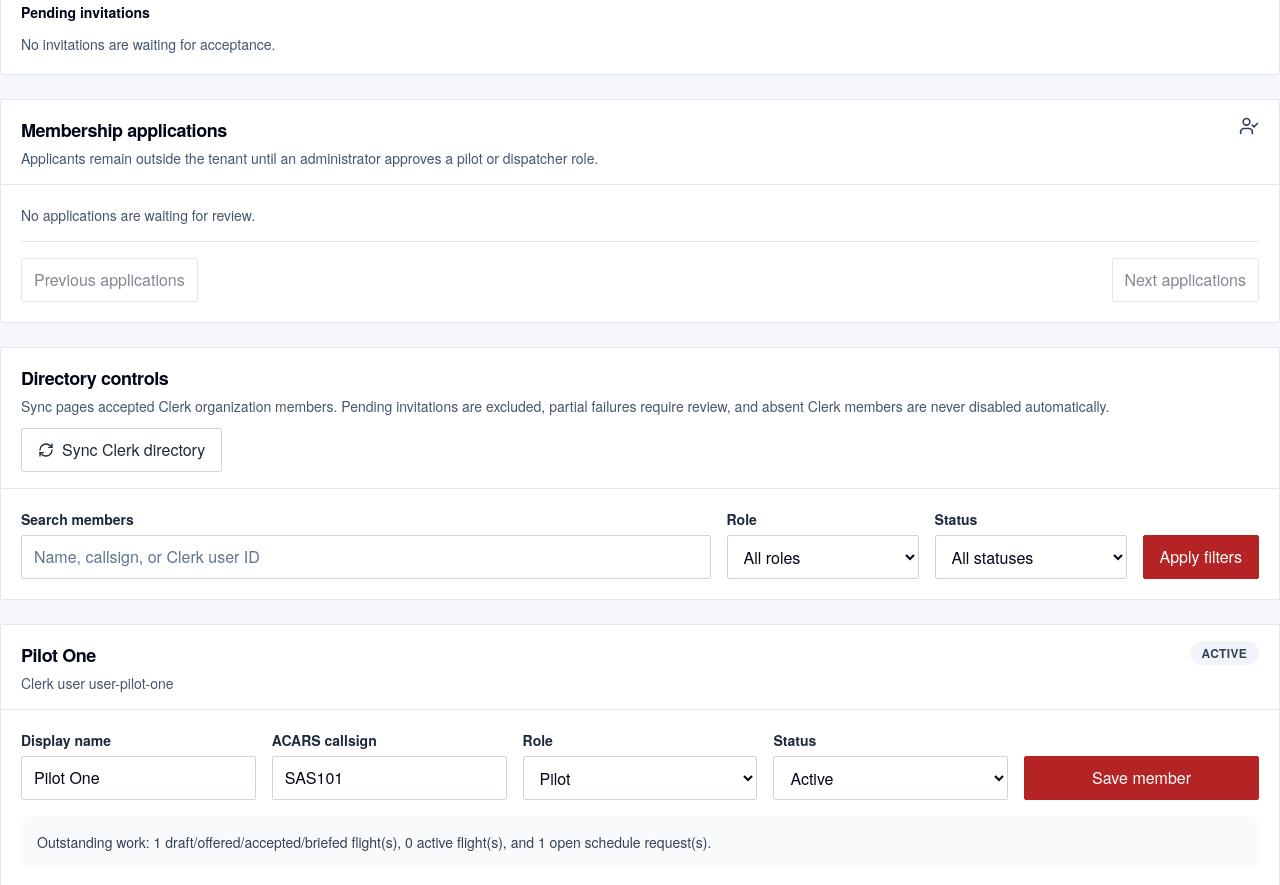
admin member console › reports skipped Clerk memberships as incomplete and reviewable
(page scrolled)
Click the button "Sync Clerk directory" at (122, 450), box [21,428,222,472]
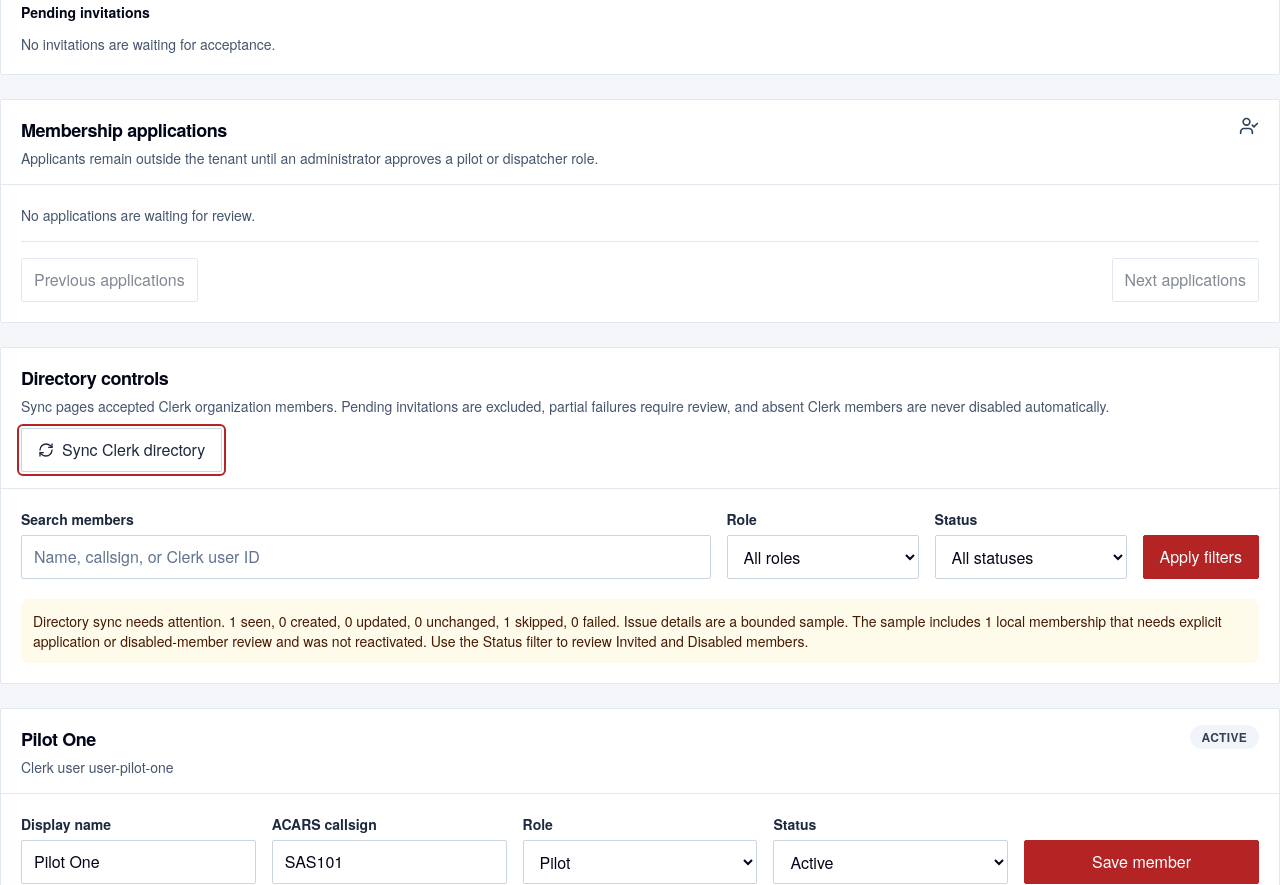
Check: the message shows "Directory sync needs attention", box [33,611,225,631]
Check: the message shows "1 skipped", box [21,599,1259,663]
Check: the message shows "The sample includes 1 local membership that needs explicit application or disabled-member review", box [33,611,1222,651]
